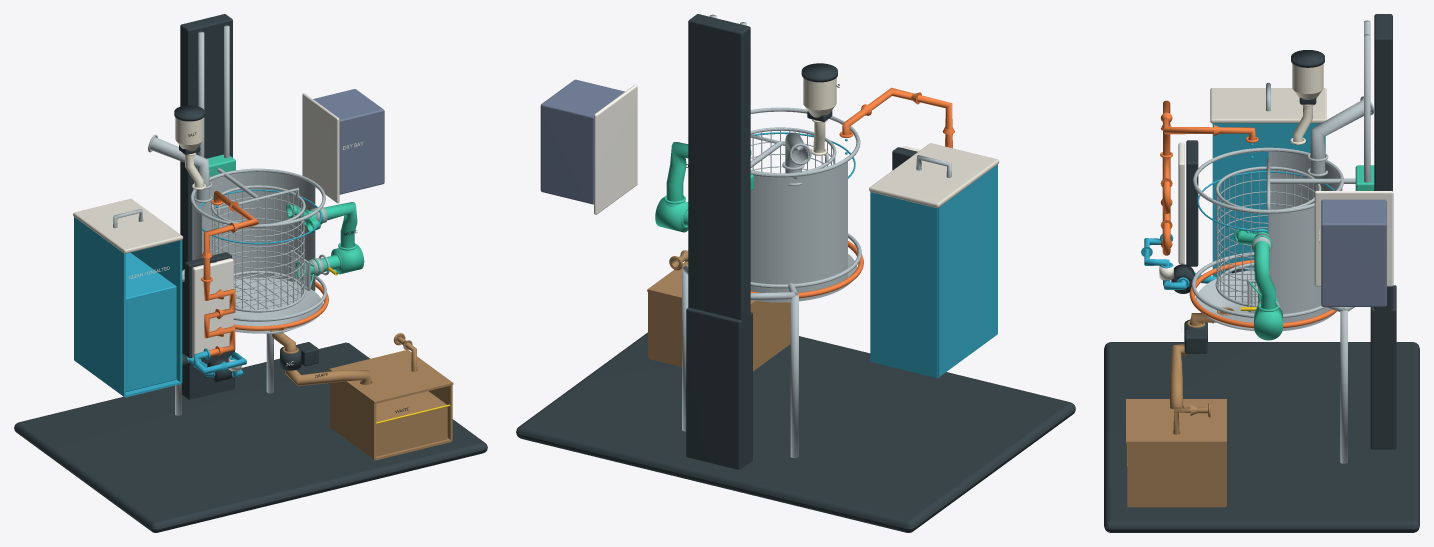
The model's file is pasta-cooker-v2-cutaway.glb.
3 views of the same model, side by side, from view 1: azimuth 30°, elevation 25°; view 2: azimuth 150°, elevation 25°; view 3: azimuth 270°, elevation 25° (orthographic). The views are drawn at different scales.
Parts seen in each view (by area): view 1: Chassis drip containment base, Vessel rear half, Tank left wall, Lift drive mast, Unsalted clean water visual, Dry electronics compartment, Waste max fill water visual, Waste lid, Tank lid, Wet dry barrier, Sloped floor with open low point, Heater electrical isolation ceramic plate (+15 smaller); view 2: Chassis drip containment base, Lift drive mast, Tank rear wall, Vessel rear half, Tank left wall, Mast lower structural pedestal, Dry electronics compartment, Wet dry barrier, Tank lid, Waste rear wall, Waste left wall, Cradle upright -70 (+8 smaller); view 3: Chassis drip containment base, Vessel rear half, Dry electronics compartment, Tank right wall, Waste right wall, Waste lid, Mast lower structural pedestal, Lift drive mast, Tank lid, Wet dry barrier, Sloped floor with open low point, Heater dry back enclosure (+22 smaller).
Boxes of the visible parts, x1,y1,x2,y2 form: Chassis drip containment base: [14, 342, 487, 532]; Vessel rear half: [192, 172, 327, 291]; Tank left wall: [74, 217, 125, 396]; Lift drive mast: [180, 14, 232, 270]; Unsalted clean water visual: [126, 252, 176, 391]; Dry electronics compartment: [313, 89, 384, 194]; Waste max fill water visual: [376, 391, 447, 456]; Waste lid: [329, 350, 453, 403]; Tank lid: [73, 198, 183, 253]; Wet dry barrier: [302, 93, 339, 203]; Sloped floor with open low point: [233, 277, 322, 333]; Heater electrical isolation ceramic plate: [192, 258, 233, 358]; Chassis drip containment base: [516, 332, 1075, 532]; Lift drive mast: [688, 14, 750, 320]; Tank rear wall: [870, 192, 937, 377]; Vessel rear half: [750, 161, 847, 301]; Tank left wall: [937, 164, 997, 377]; Mast lower structural pedestal: [686, 307, 752, 469]; Dry electronics compartment: [540, 79, 624, 204]; Wet dry barrier: [594, 84, 637, 214]; Tank lid: [869, 143, 999, 208]; Waste rear wall: [648, 292, 681, 366]; Waste left wall: [750, 301, 790, 370]; Cradle upright -70: [790, 294, 798, 458]; Chassis drip containment base: [1104, 342, 1419, 532]; Vessel rear half: [1252, 151, 1342, 330]; Dry electronics compartment: [1321, 199, 1386, 306]; Tank right wall: [1212, 123, 1320, 276]; Waste right wall: [1127, 444, 1225, 506]; Waste lid: [1126, 399, 1226, 443]; Mast lower structural pedestal: [1370, 285, 1396, 449]; Lift drive mast: [1374, 14, 1392, 310]; Tank lid: [1210, 88, 1326, 123]; Wet dry barrier: [1314, 191, 1393, 286]; Sloped floor with open low point: [1196, 270, 1332, 331]; Heater dry back enclosure: [1186, 140, 1198, 266].
Bounding box in the file's own units: 0.66 × 0.718 × 0.48.
